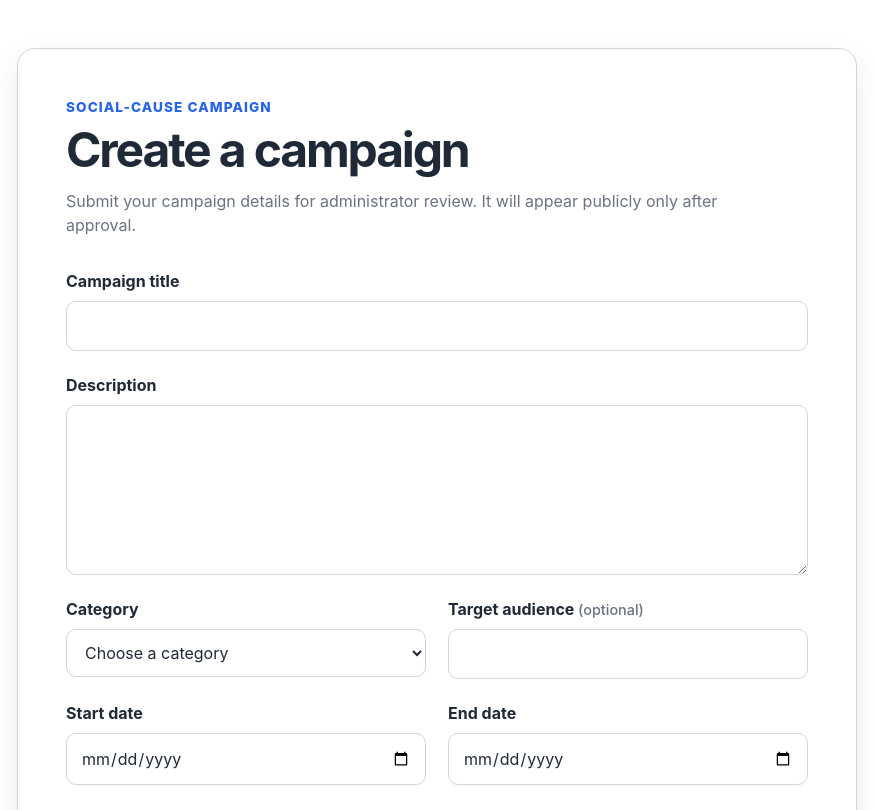
Scenario: Campaign submission › shows the server message for HTTP 401 and preserves the form
Step 1. Type "Neighbourhood garden" into the field labelled "Campaign title" → (437, 326), box [66, 301, 808, 351]
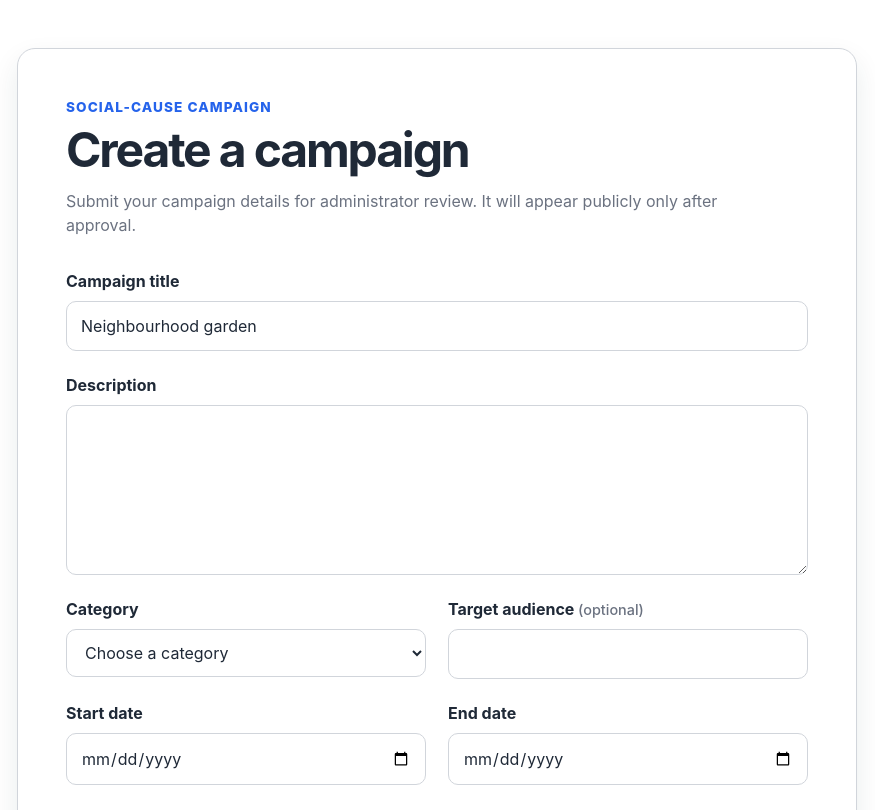
Step 2. Type "Help plant and care for a shared garden." into the text box labelled "Description" → (437, 490), box [66, 405, 808, 575]
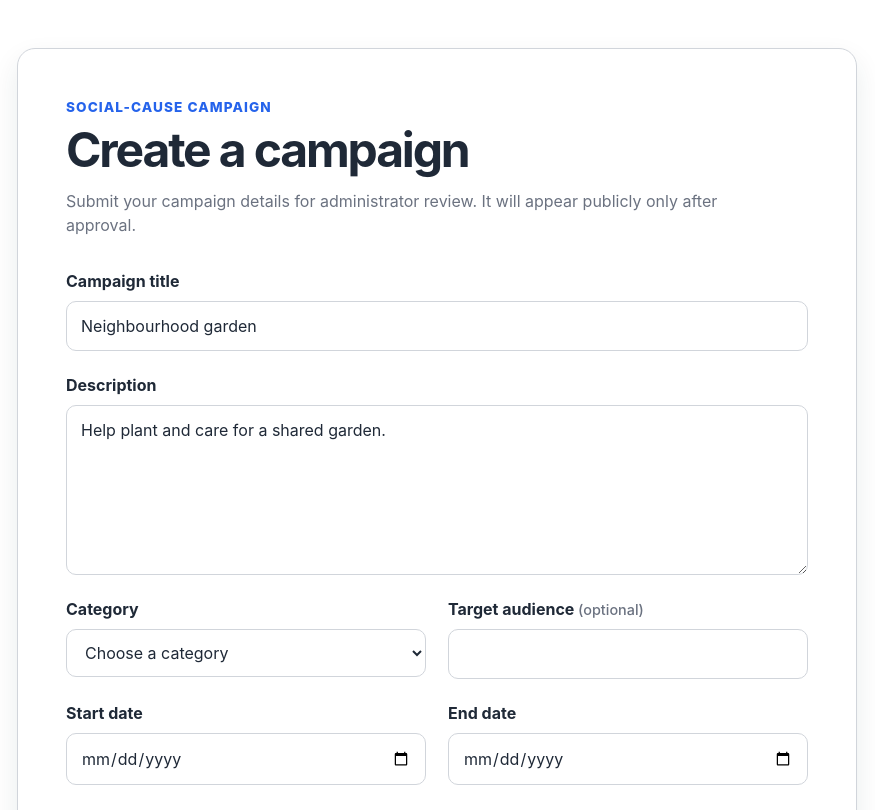
Step 3. Select "Local action" in the dropdown labelled "Category" → (246, 653), box [66, 629, 426, 677]
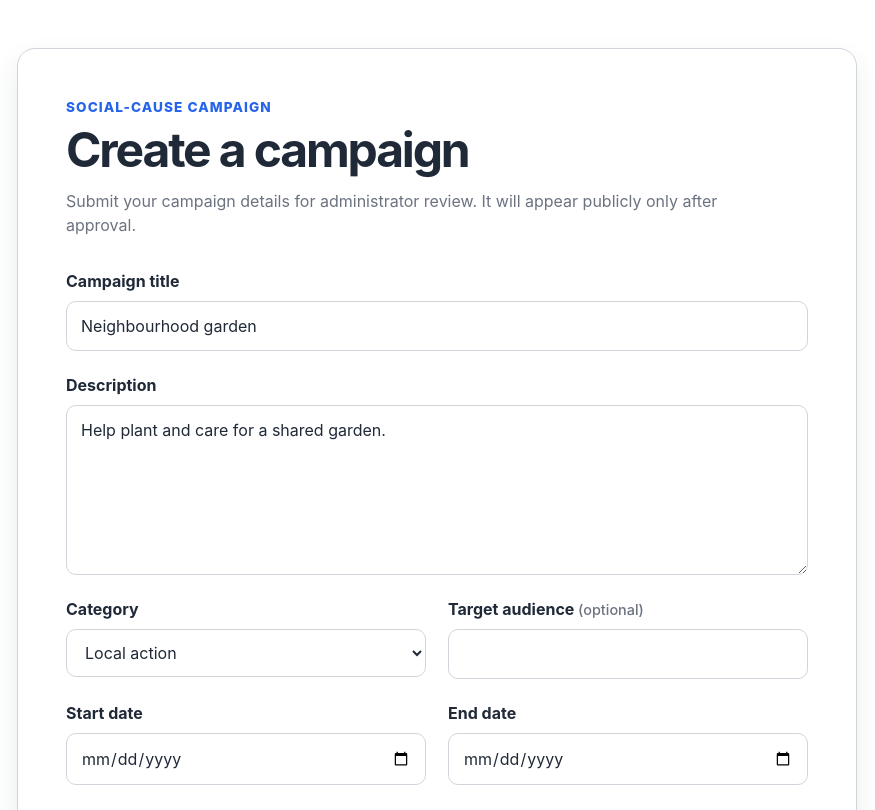
Step 4. Type "2026-10-10" into the date field labelled "Start date" → (246, 759), box [66, 733, 426, 785]
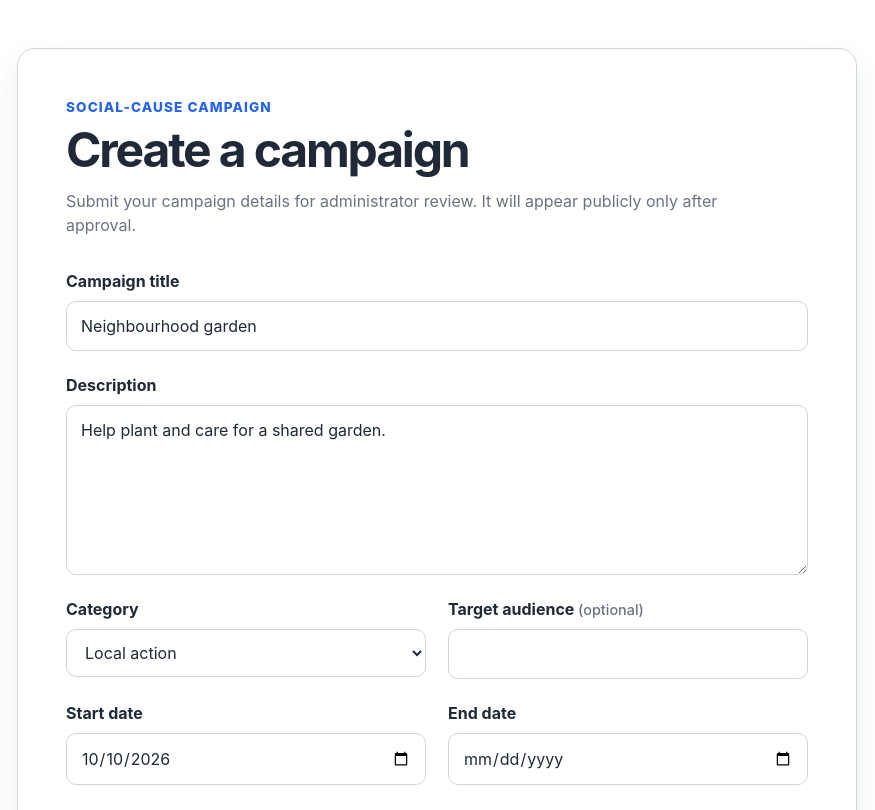
Step 5. Type "2026-10-11" into the date field labelled "End date" → (628, 759), box [448, 733, 808, 785]
(page scrolled)
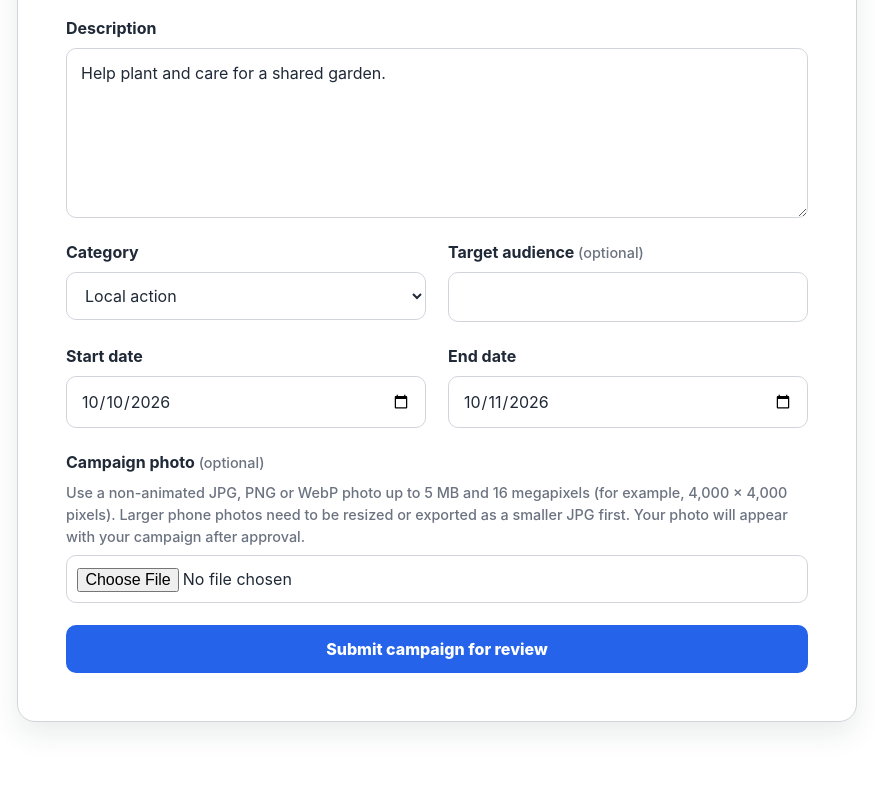
Step 6. Click the button "Submit campaign for review" → (437, 649), box [66, 625, 808, 673]
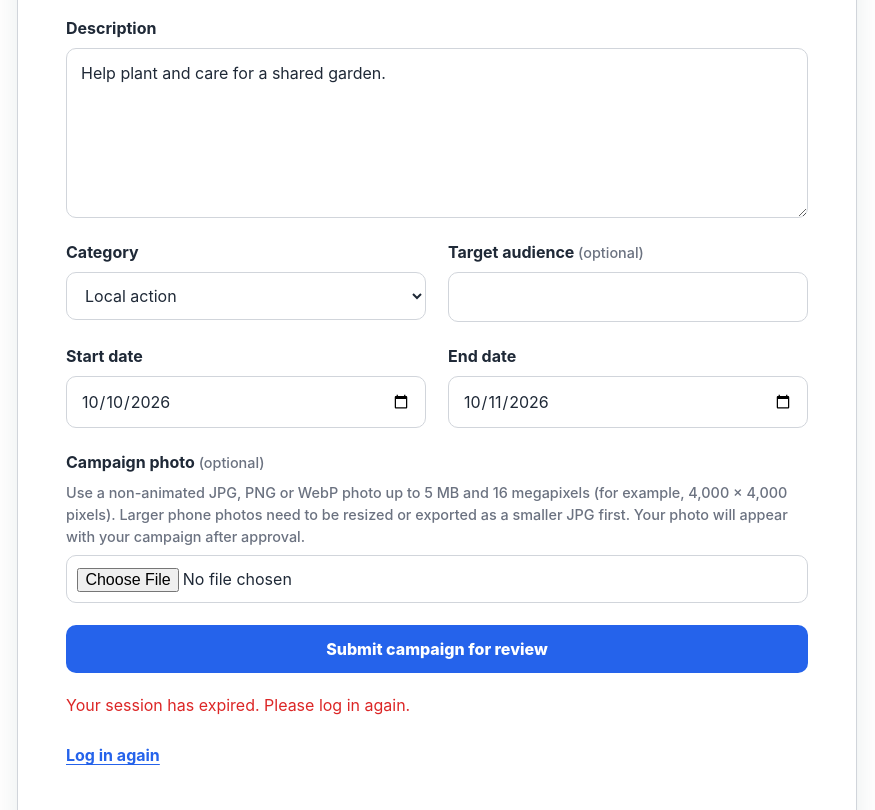
Result: the text "Your session has expired. Please log in again." is shown at [66, 695, 410, 715]
